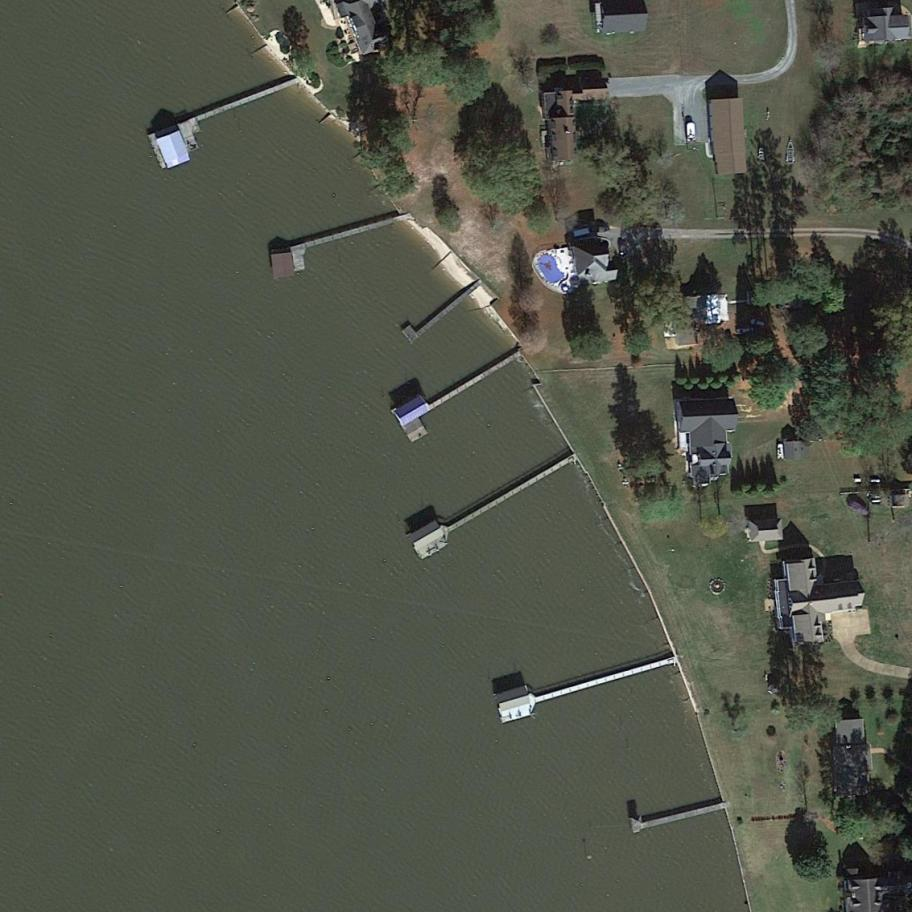ship: (783, 138, 797, 165), (686, 121, 696, 143), (775, 443, 786, 460)
small-vehicle: (748, 316, 769, 331), (736, 327, 753, 336)
